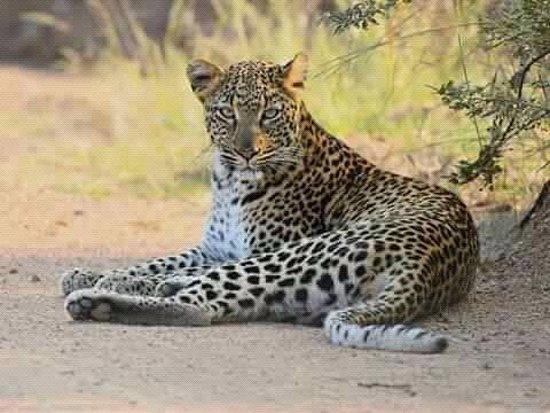leopard: (55, 48, 487, 356)
